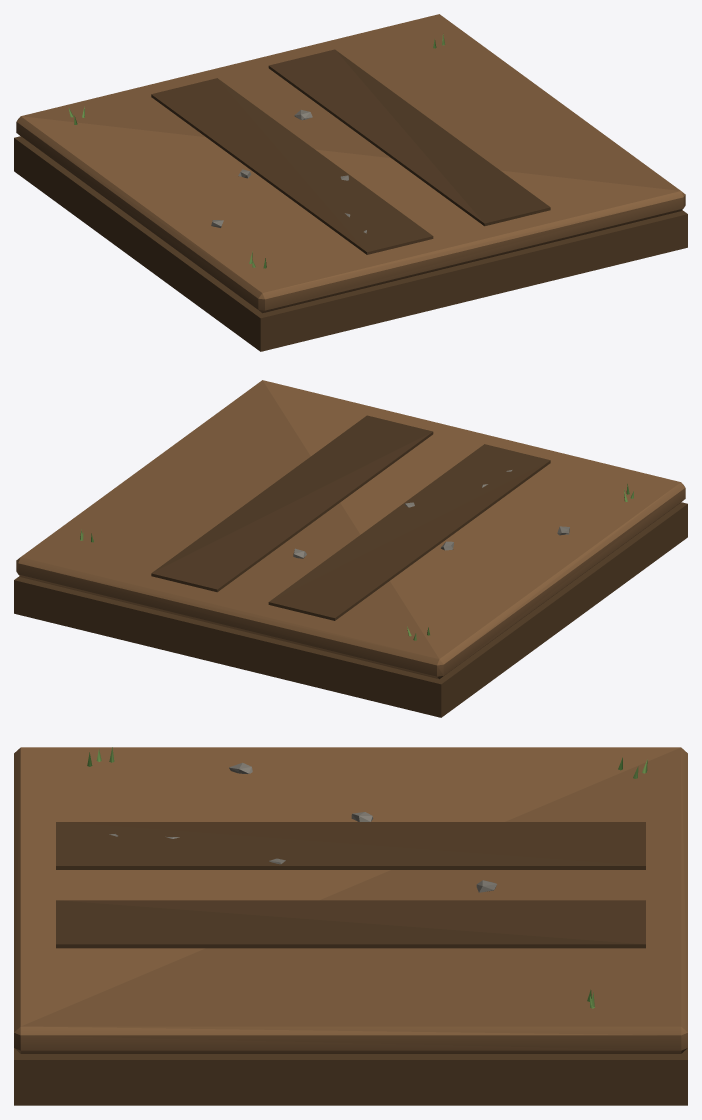
File: terrain-dirt-path-01.glb
3 views of the same model, one above another, from view 1: azimuth 30°, elevation 25°; view 2: azimuth 150°, elevation 25°; view 3: azimuth 270°, elevation 25° (orthographic). The views are drawn at different scales.
Parts seen in each view (by area): view 1: terrain_dirt_path_01; view 2: terrain_dirt_path_01; view 3: terrain_dirt_path_01.
Part boxes in pixels (x1,y1,x2,y2): terrain_dirt_path_01: (14,14,687,351); terrain_dirt_path_01: (14,380,687,717); terrain_dirt_path_01: (14,747,687,1105).
Size of the model in its own units: 4 by 0.6109 by 4.
